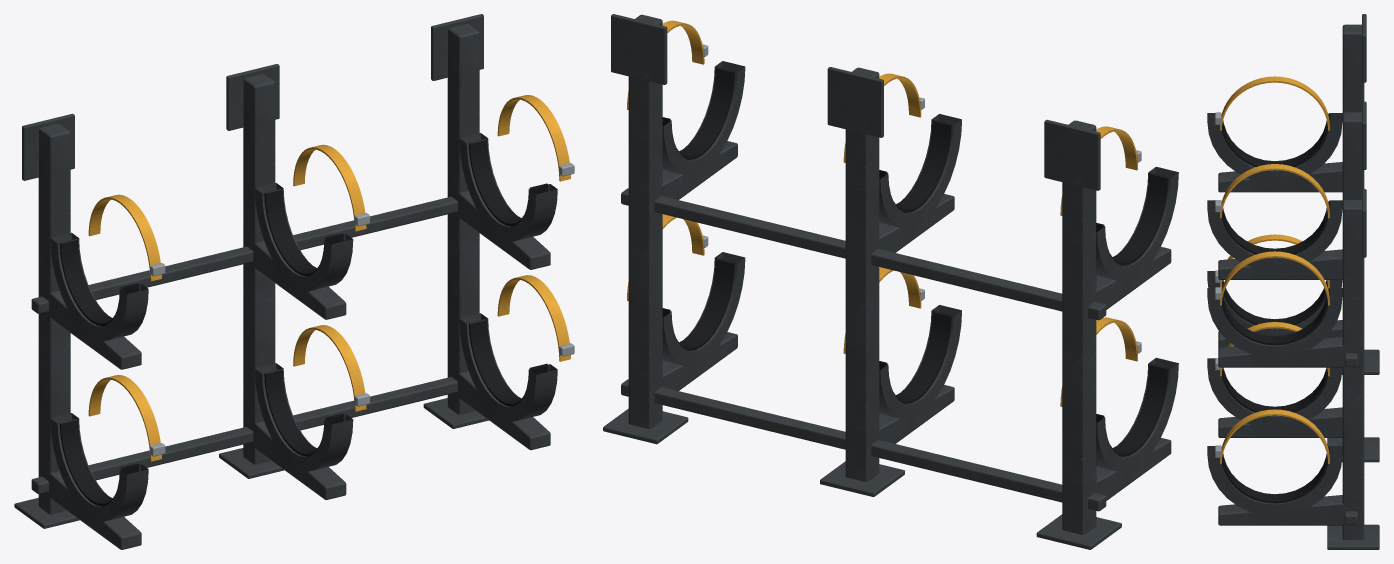
File: TorpedoRack.glb
3 renders of one model, left to right at view 1: azimuth 30°, elevation 25°; view 2: azimuth 150°, elevation 25°; view 3: azimuth 270°, elevation 25°, orthographic. The views are drawn at different scales.
Visible parts, largest first — view 1: TorpedoRack_Body; view 2: TorpedoRack_Body; view 3: TorpedoRack_Body.
Boxes of the visible parts, <box> form: TorpedoRack_Body: <box>14,14,574,549</box>; TorpedoRack_Body: <box>603,14,1178,549</box>; TorpedoRack_Body: <box>1207,14,1379,549</box>.
Bounding box in the file's own units: 2.17 × 1.72 × 0.79.
4 materials, 2 textured.
